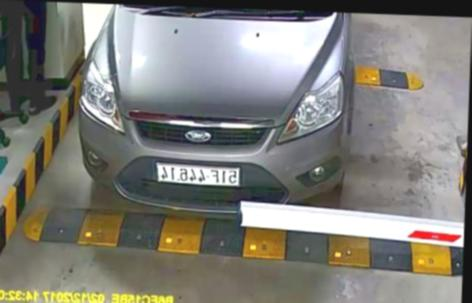License_Plate: (154, 161, 241, 189)
